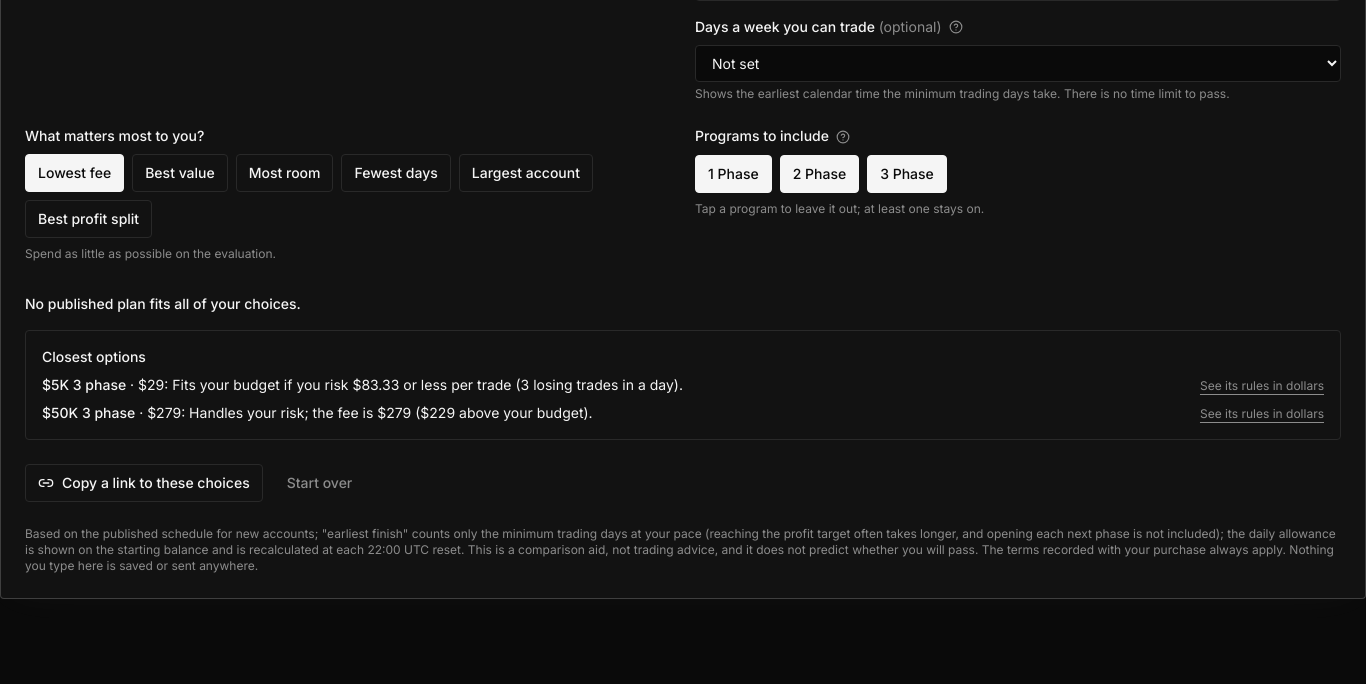
challenge finder widget › shows the full list and closest options when nothing fits
This screenshot has width=1366, height=684.
(page scrolled)
expect the text "No published plan fits all of your choices." is shown: met, box [25,295,301,312]
expect the text "Closest options" is shown: met, box [42,348,146,365]
Click the button "Start over" at (320, 483), box [275,465,364,501]
(page scrolled)
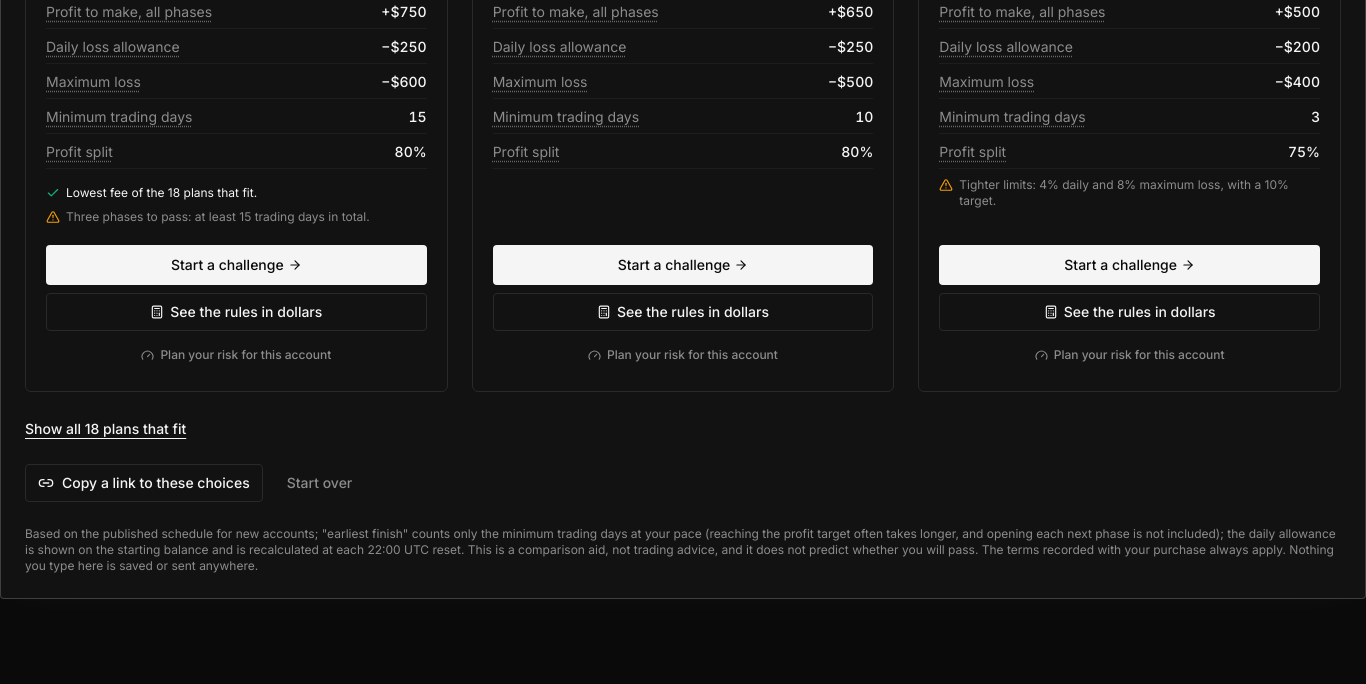
Click the button "Show all 18 plans that fit" at (106, 429), box [25,419,186,439]
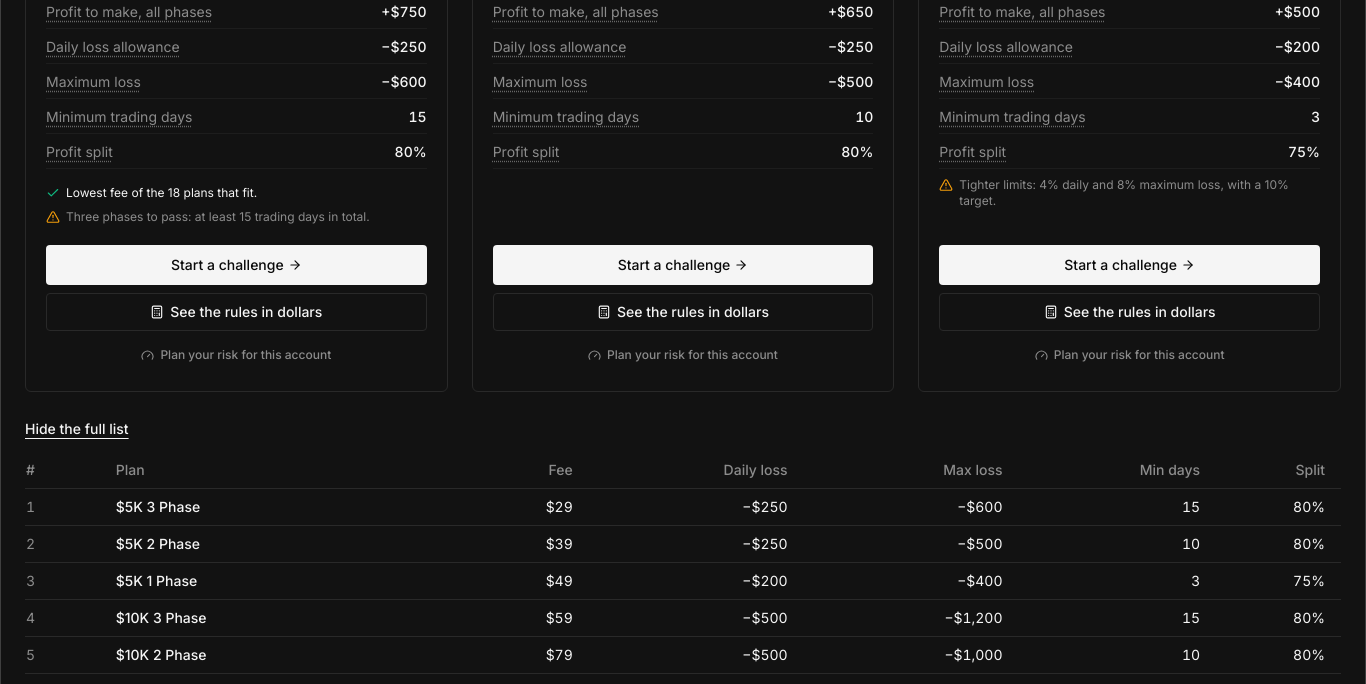
expect the number of rows is 19: met
